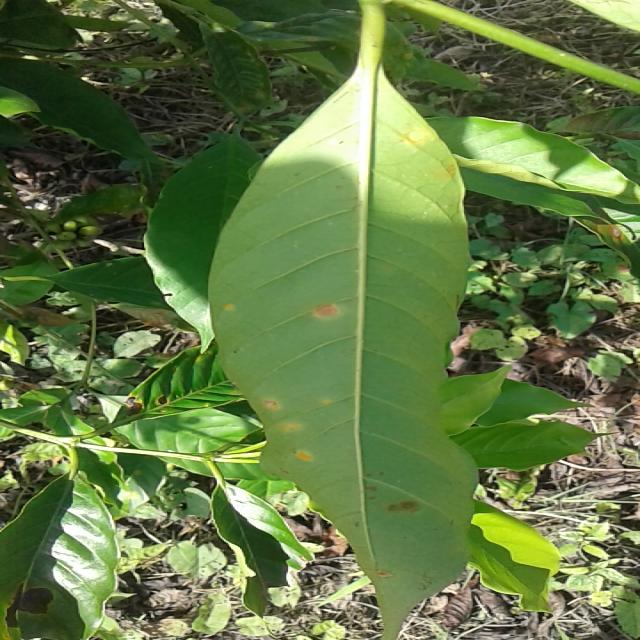Enfermedad-Roya: (205, 68, 476, 640)
